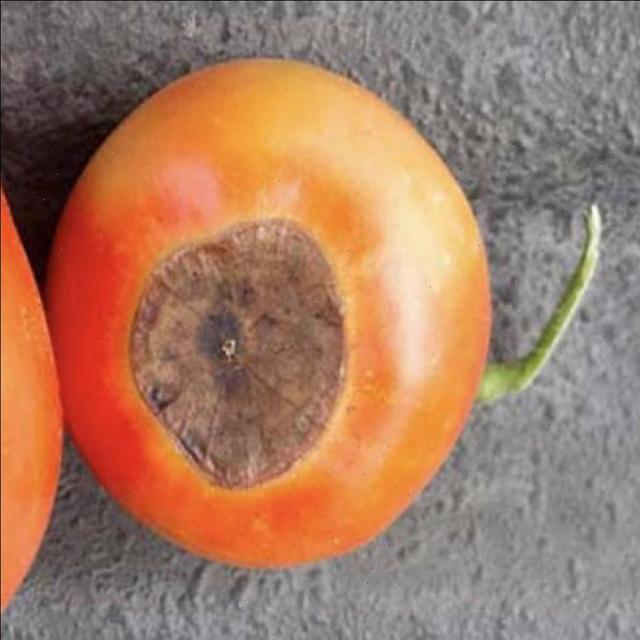Blossom End Rot Fruit: (80, 141, 242, 324)
